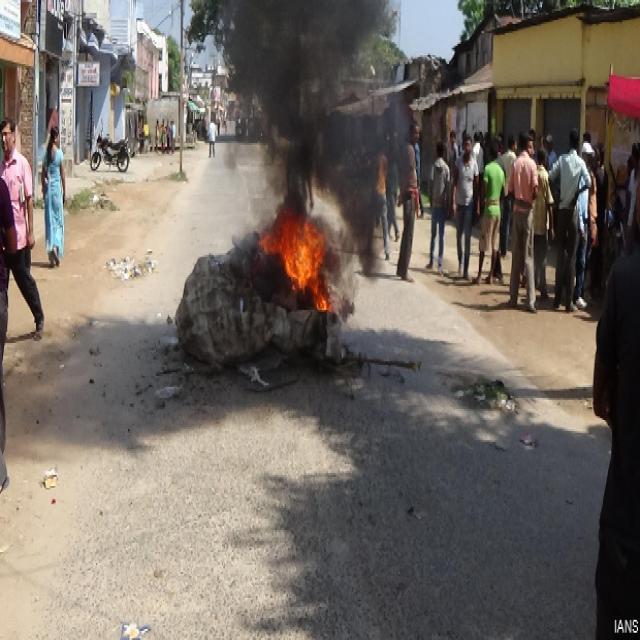Fire: (266, 211, 330, 315)
Smoke: (256, 7, 386, 204)
